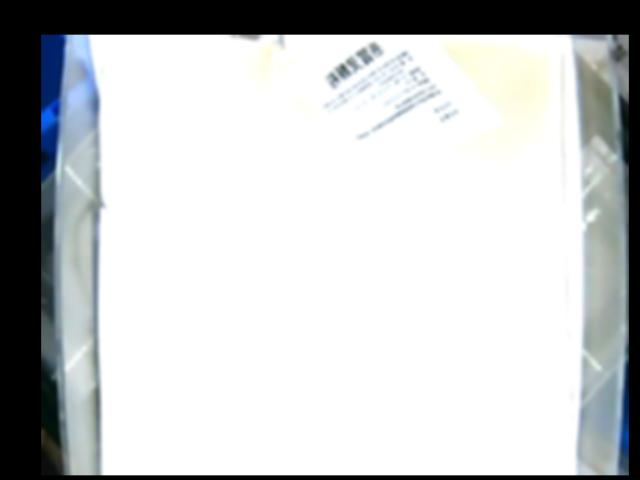Medicine: (282, 35, 501, 184)
